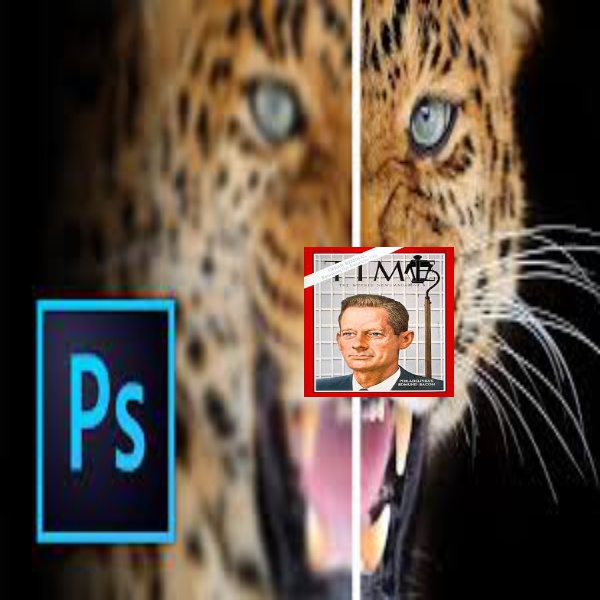time_cover: (301, 237, 455, 407)
